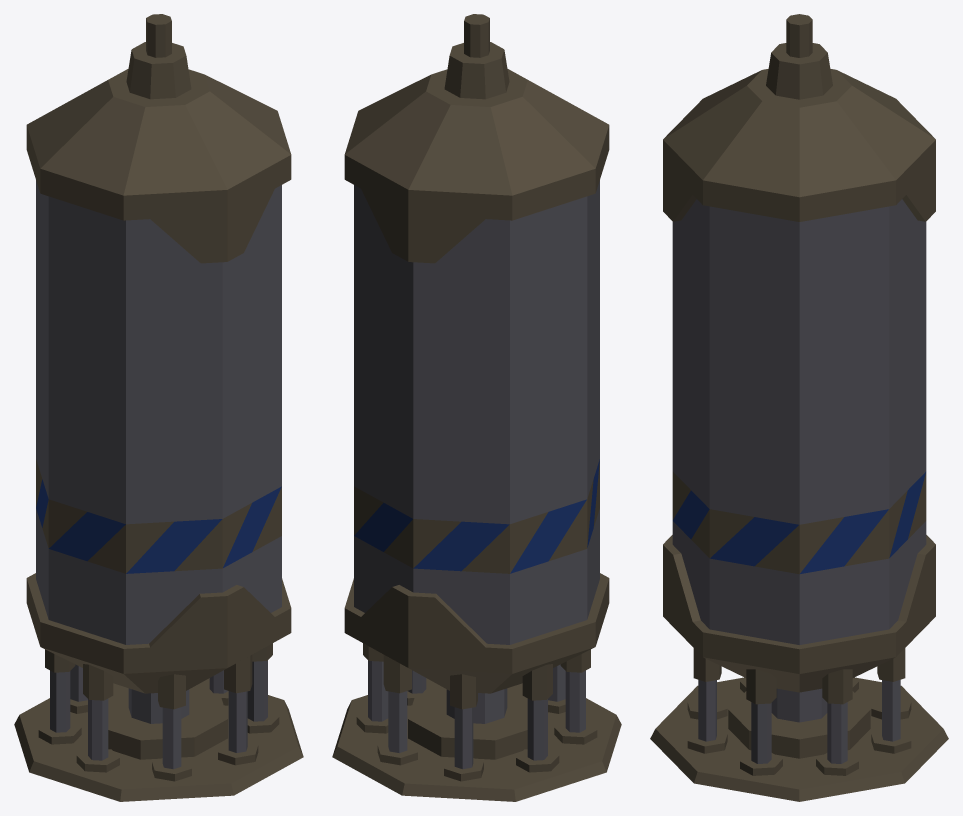
The model's file is LPSciFiCharacter_FractionalColumnA.fbx.
The picture shows the model from 3 angles, left to right: view 1: azimuth 30°, elevation 25°; view 2: azimuth 150°, elevation 25°; view 3: azimuth 270°, elevation 25°; orthographic projection.
Parts seen in each view (by area): view 1: FractionalColumnA; view 2: FractionalColumnA; view 3: FractionalColumnA.
Boxes of the visible parts, <box> form: FractionalColumnA: <box>14,14,303,801</box>; FractionalColumnA: <box>332,14,621,801</box>; FractionalColumnA: <box>650,14,948,801</box>.
Bounding box in the file's own units: 200 × 531 × 200.
